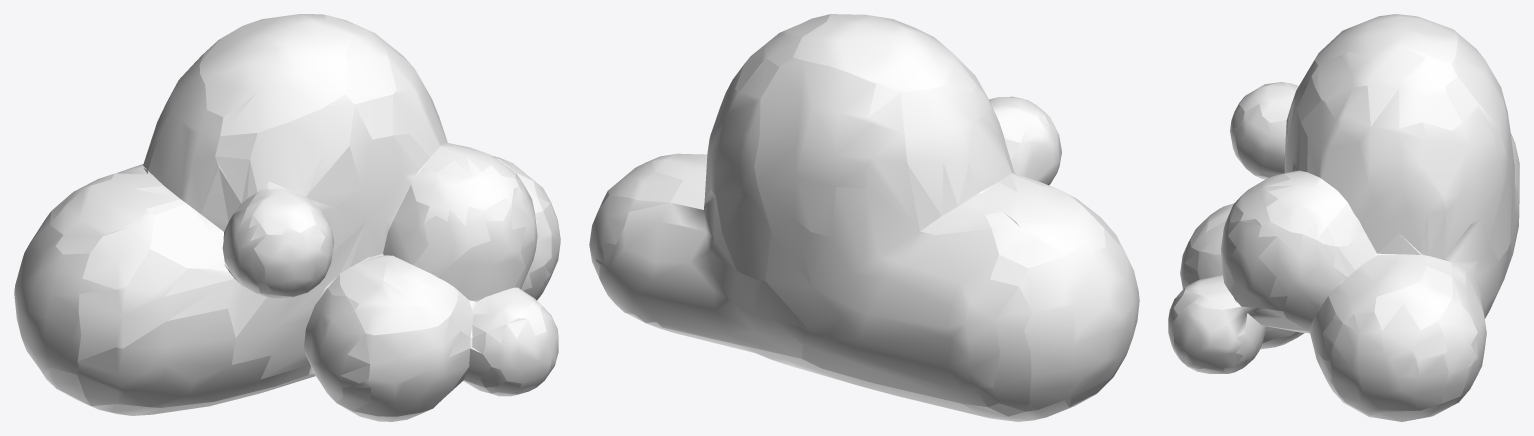
Rendered from cloud.glb.
3 renders of one model, left to right at view 1: azimuth 30°, elevation 25°; view 2: azimuth 150°, elevation 25°; view 3: azimuth 270°, elevation 25°, orthographic. The views are drawn at different scales.
Bounding box in the file's own units: 1.9 × 1.18 × 1.22.
Materials: 1 (1 with a texture image).
